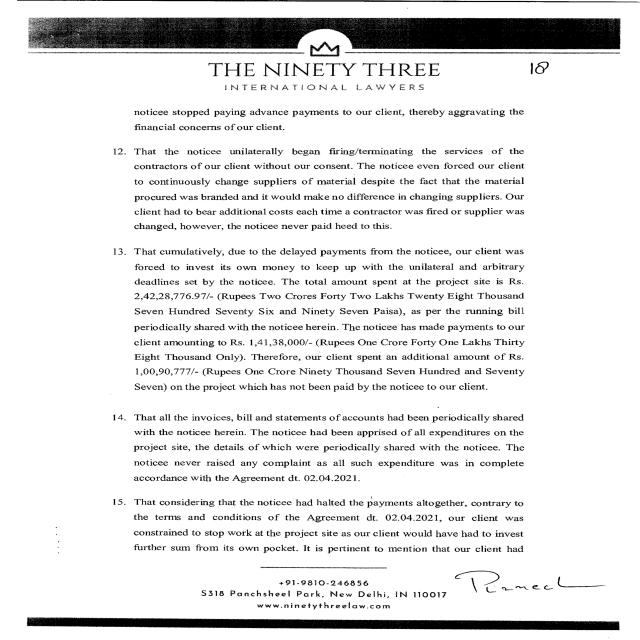page-number: (442, 54, 636, 108)
